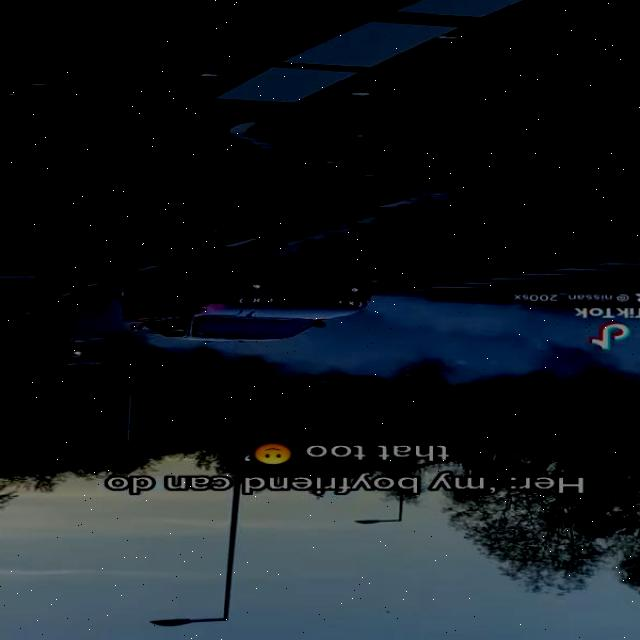car: (114, 272, 372, 345)
